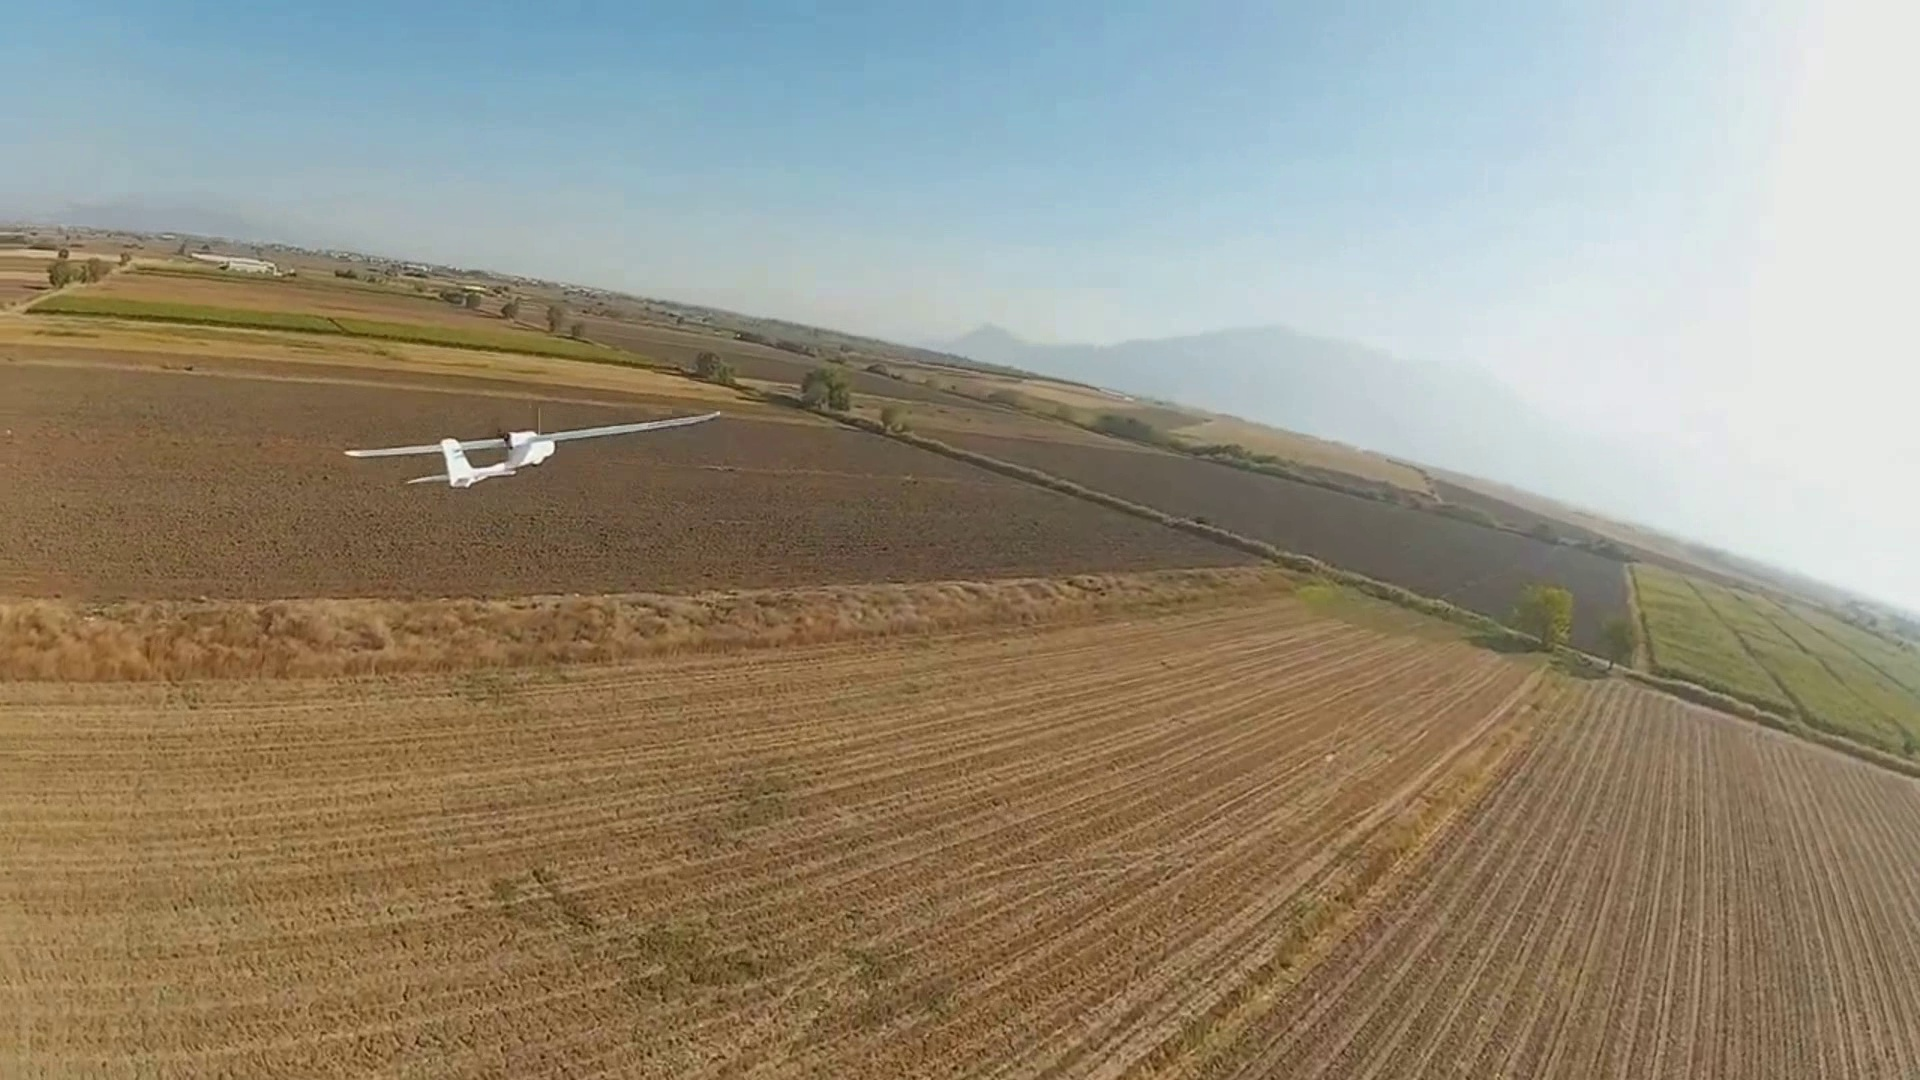airplane: (342, 411, 725, 488), (344, 427, 554, 488)
